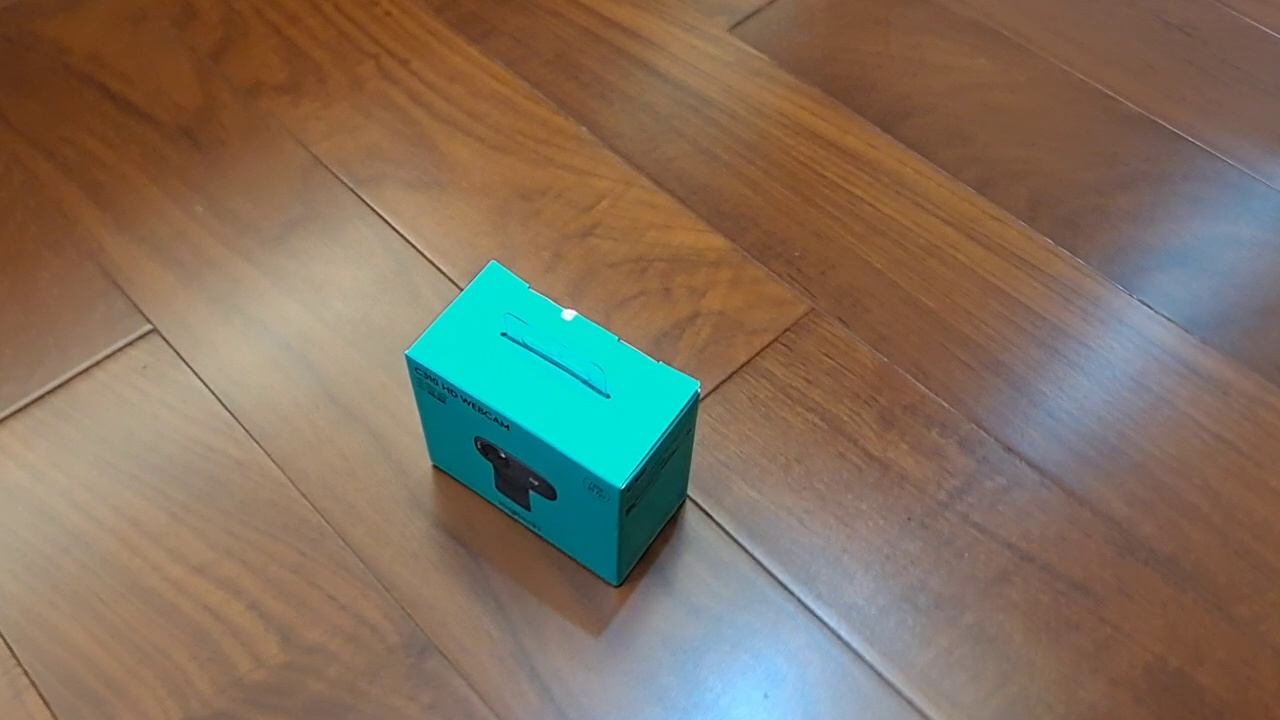webcam: (402, 258, 703, 590)
